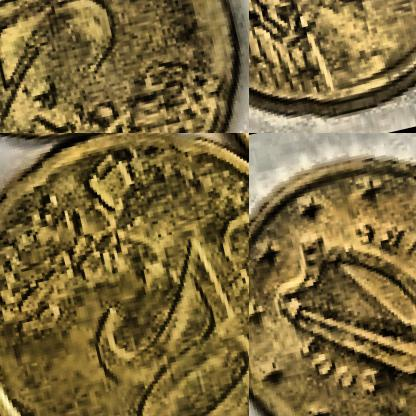coin: (0, 133, 248, 415), (249, 133, 415, 415), (0, 0, 248, 132), (249, 0, 415, 132)
